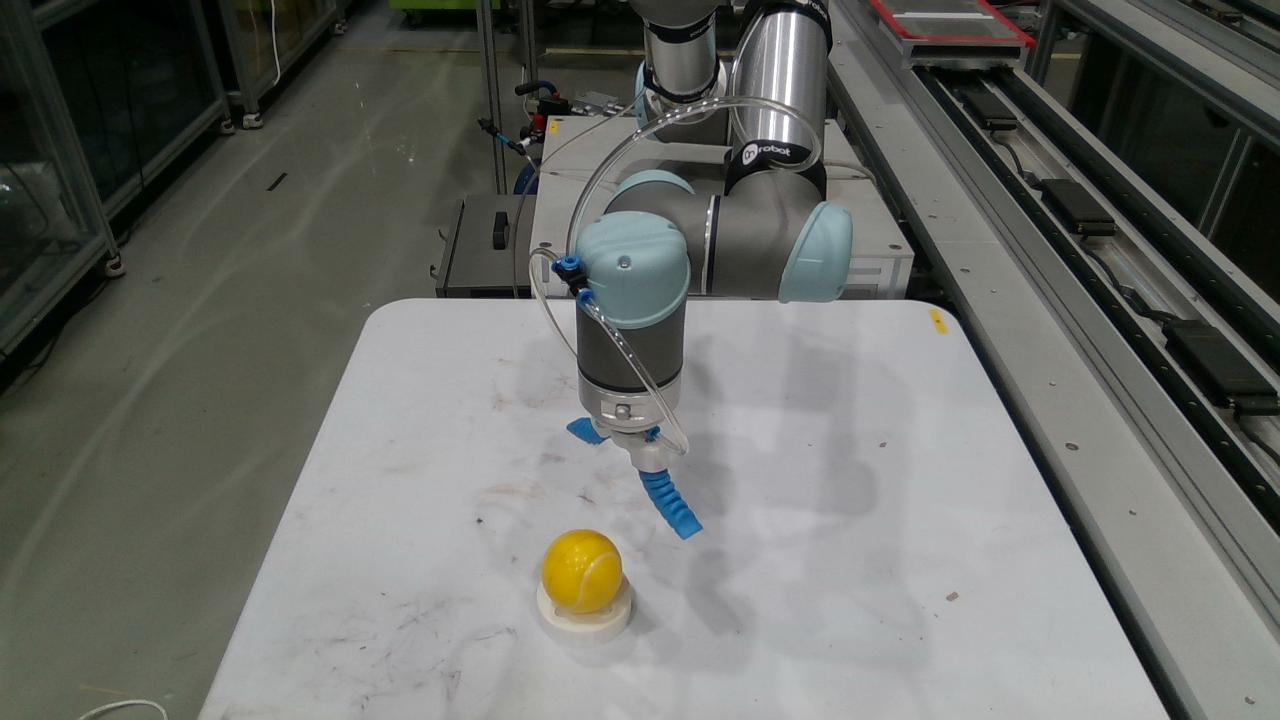UR5: (568, 4, 846, 469)
gripper_left: (567, 417, 606, 444)
gripper_right: (642, 470, 694, 538)
target: (536, 580, 634, 648), (542, 530, 620, 611)
